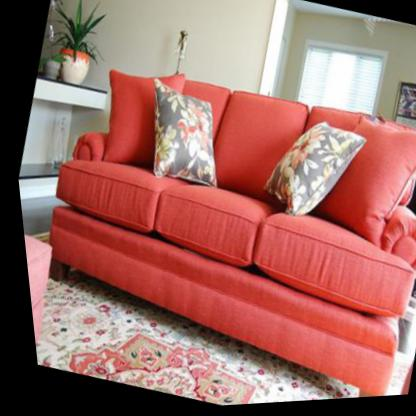Sofa: (4, 33, 416, 416)
